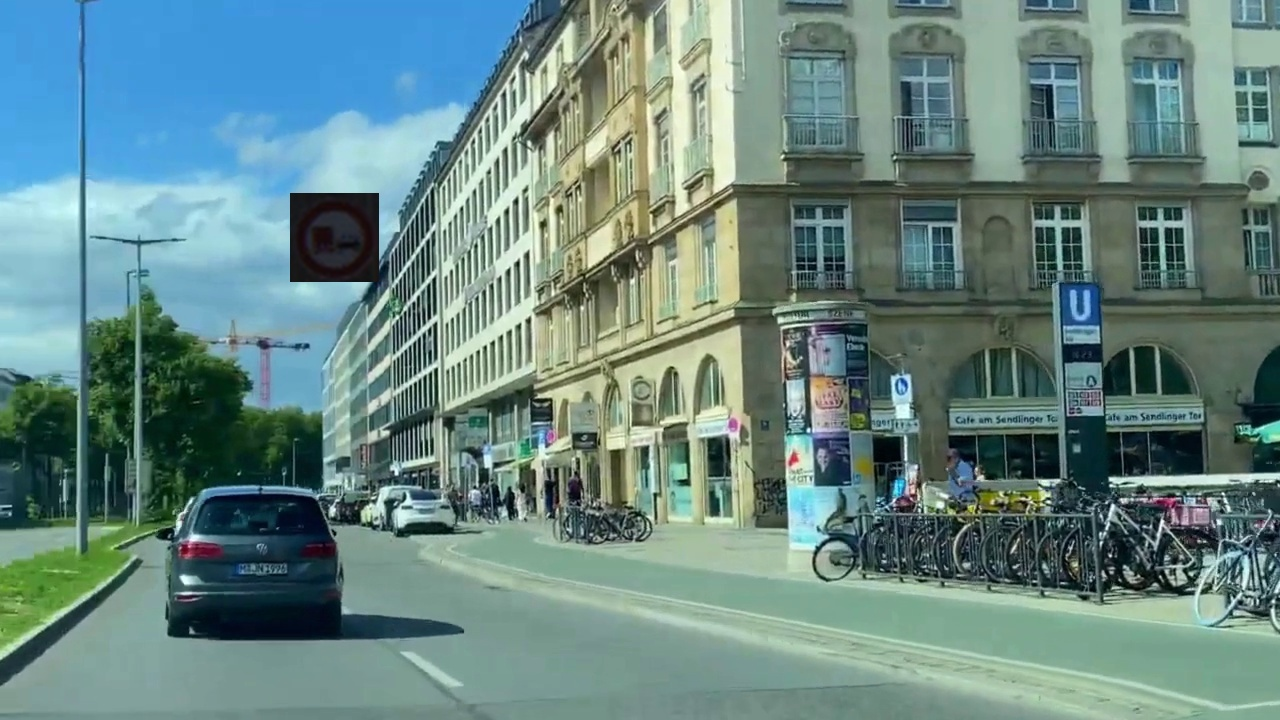No pass >3.5t: (290, 193, 379, 282)
